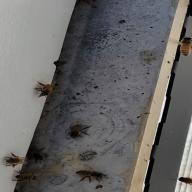Bee: (2, 152, 36, 168), (32, 80, 58, 96)
